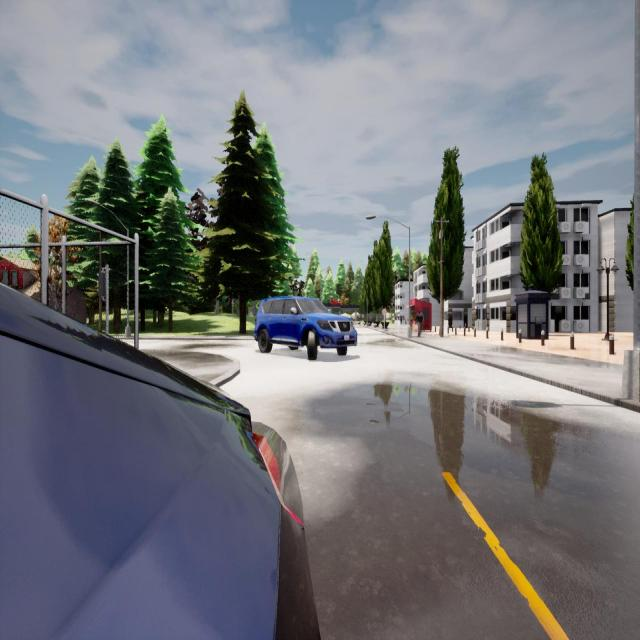Pedestrian: (415, 309, 423, 337)
Traffic_Signs: (382, 309, 386, 315)
Vehicle: (0, 286, 333, 640), (255, 297, 356, 359)
traffic_light: (97, 272, 105, 296)
